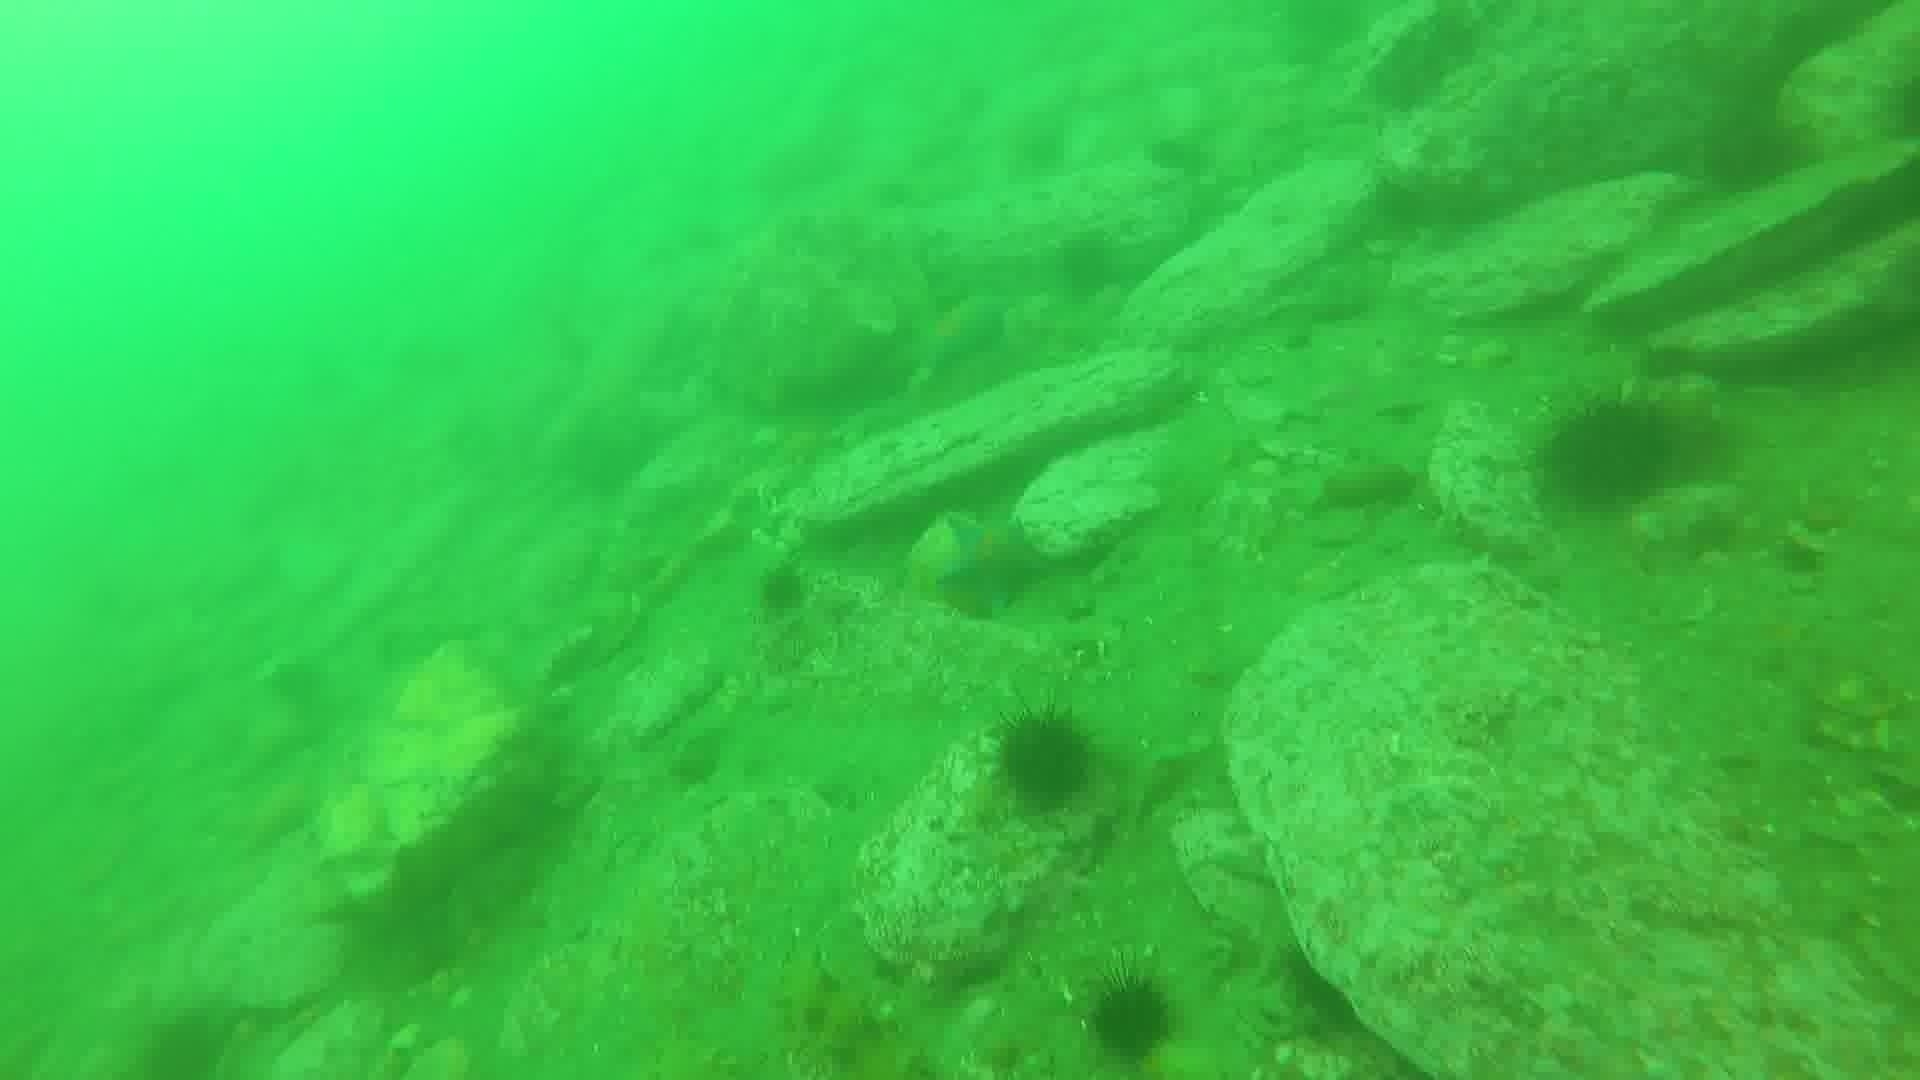echinus: (1538, 390, 1683, 514), (986, 704, 1101, 815), (1696, 109, 1811, 200), (1083, 971, 1182, 1065), (136, 1004, 237, 1080), (1050, 228, 1125, 305), (750, 559, 815, 621)
holothurian: (767, 945, 913, 1076)
starfish: (924, 501, 1054, 621), (899, 285, 1013, 384)
